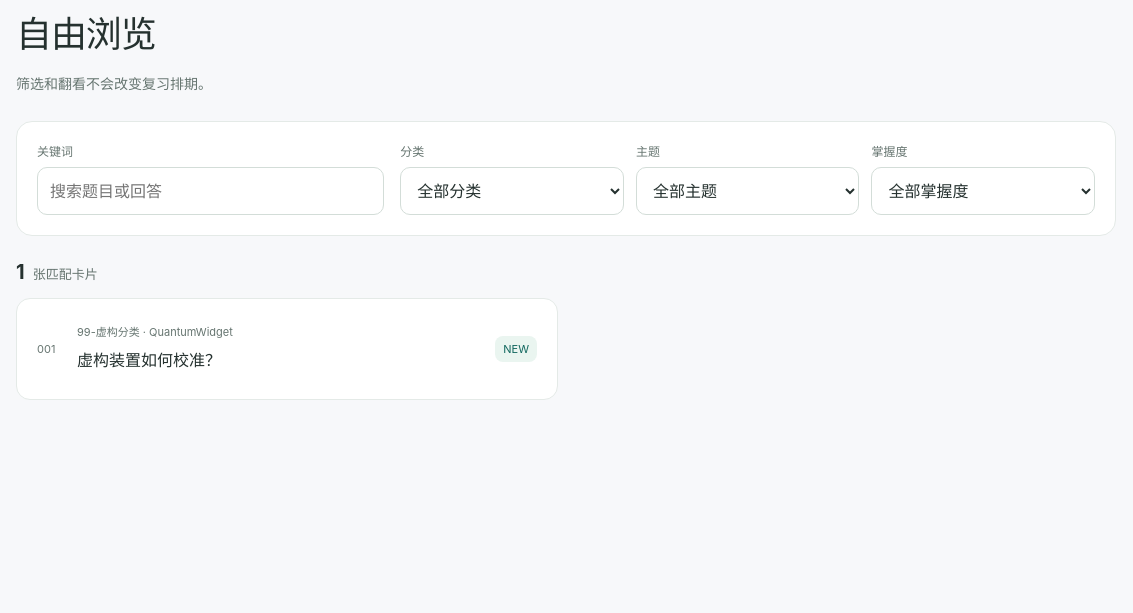
Test case: BrowseScreen › does not render empty detail sections
This screenshot has width=1133, height=613.
Click the button "001 99-虚构分类 · QuantumWidget 虚构装置如何校准？ NEW".
click(108, 332)  # box [17, 299, 557, 399]
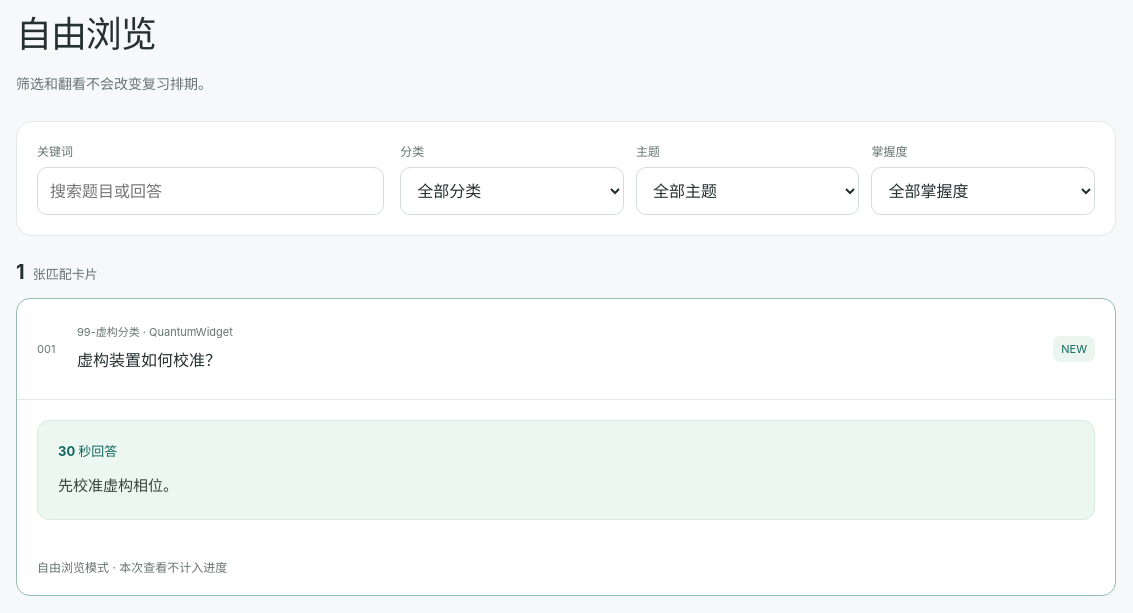
expect the heading "30 秒回答" is shown: met, box [58, 443, 117, 459]
